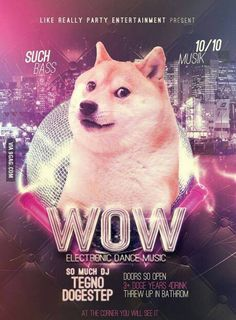doge: (55, 39, 177, 156)
